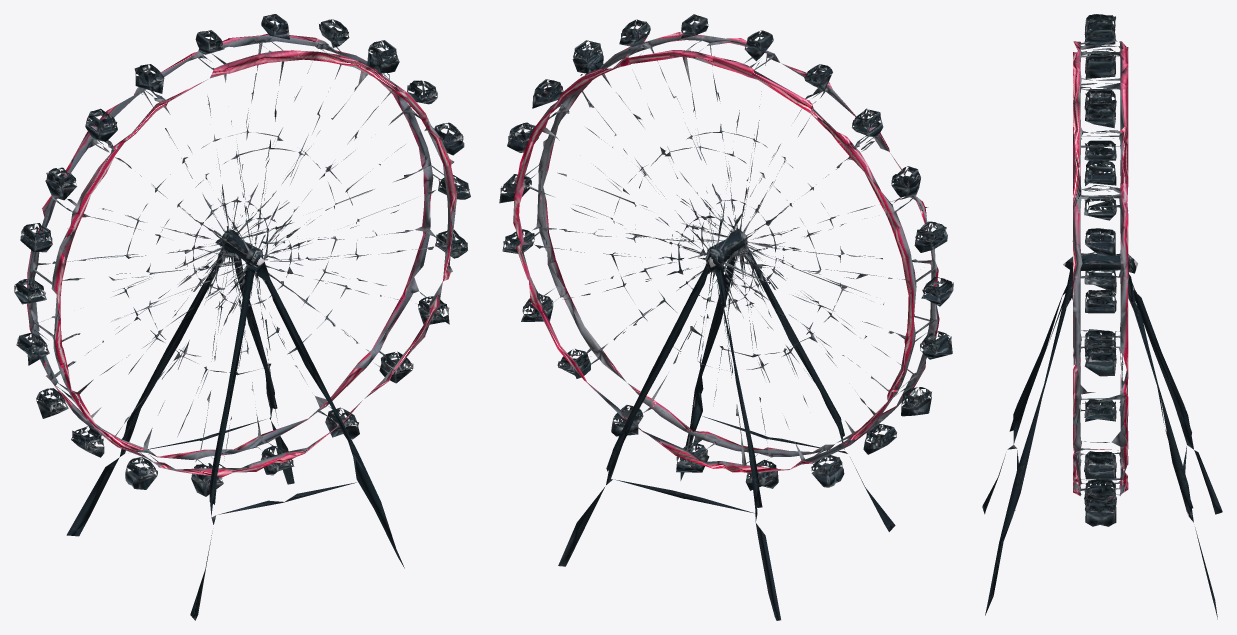
File: ferris_p.glb
The picture shows the model from 3 angles, left to right: view 1: azimuth 30°, elevation 25°; view 2: azimuth 150°, elevation 25°; view 3: azimuth 270°, elevation 25°; orthographic projection.
Bounding box in the file's own units: 1.68 × 1.9 × 0.7898.
Materials: 1 (1 with a texture image).
